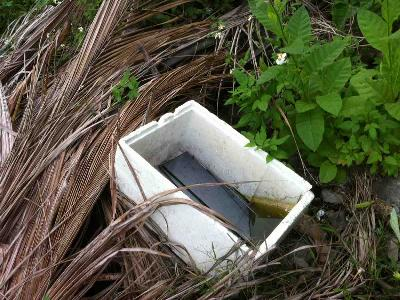styrofoam: (114, 98, 315, 283)
